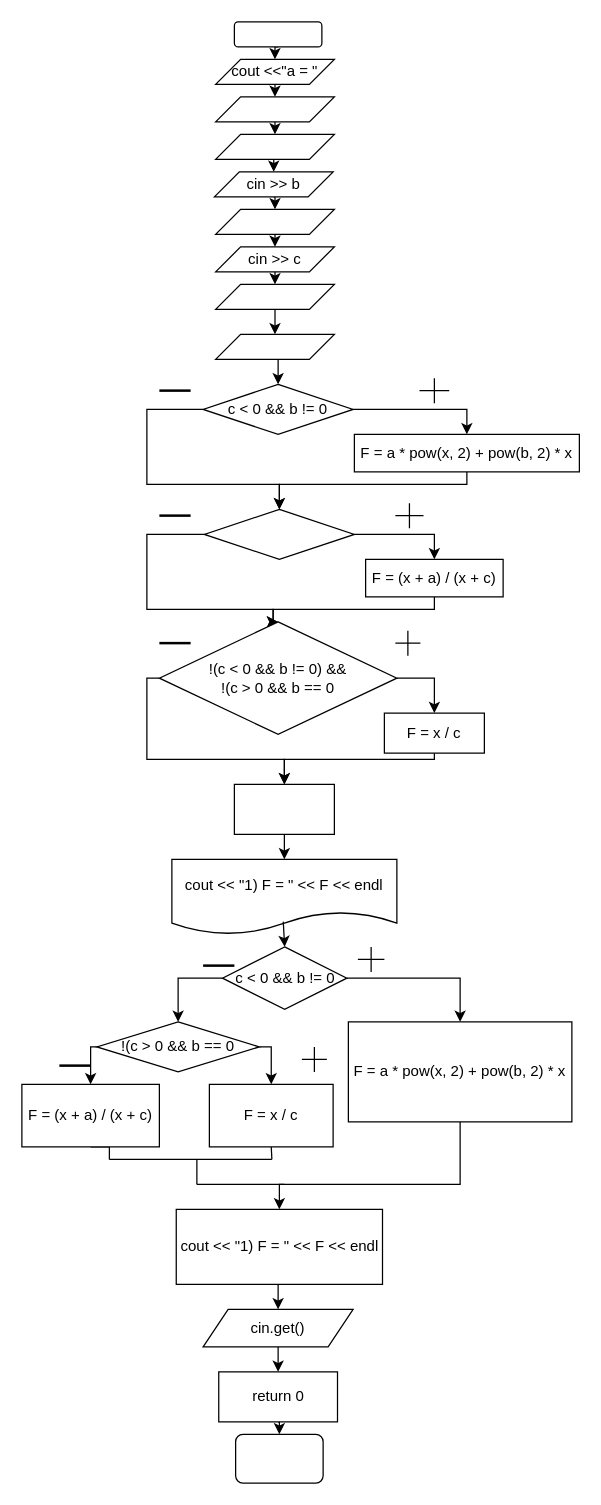
The diagram is 601 pixels wide and 1505 high, and some of its shapes have lost their labels. The shapes that lost their labels are listed below. From the top down, each one's centre as x and y in pixels, then its label:
point 277,34: початок
point 274,109: cin >> a
point 274,146: cout <<"b = "
point 274,221: cout <<"c = "
point 274,296: cout <<"x = "
point 274,346: cin >> x
point 278,533: c > 0 && b == 0
point 283,808: cout << endl
point 278,1458: кінець
